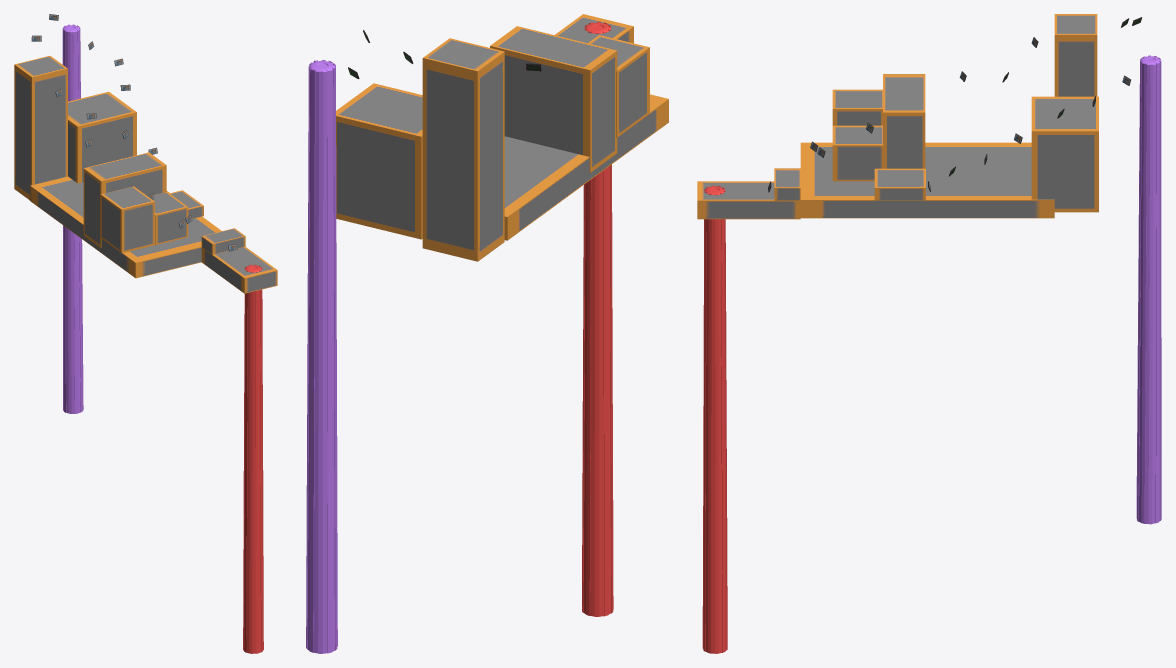
The model's file is stage2.fbx.
The picture shows the model from 3 angles, left to right: view 1: azimuth 30°, elevation 25°; view 2: azimuth 150°, elevation 25°; view 3: azimuth 270°, elevation 25°; orthographic projection. The views are drawn at different scales.
Parts seen in each view (by area): view 1: stage1_4:group10; view 2: stage1_4:group10; view 3: stage1_4:group10.
Part boxes in pixels (x1,y1,x2,y2): stage1_4:group10: [14, 14, 277, 653]; stage1_4:group10: [306, 14, 668, 653]; stage1_4:group10: [697, 14, 1161, 653].
Bounding box in the file's own units: 7064 × 31368 × 21420.
